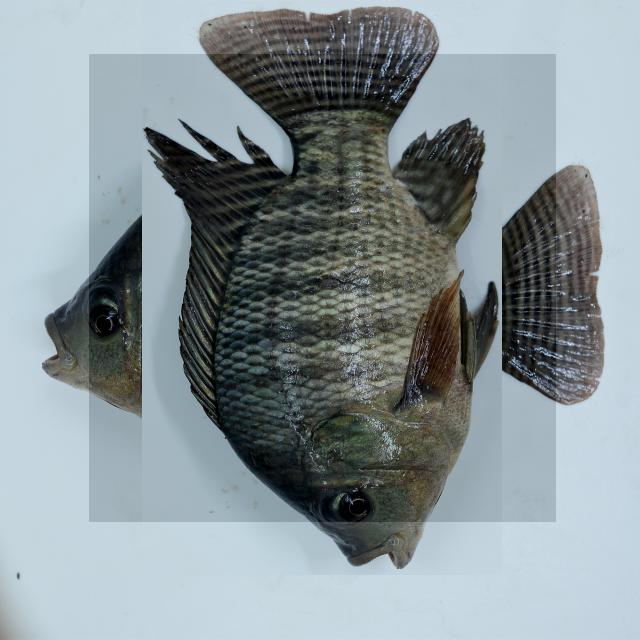Healthy Fish: (89, 54, 556, 522)
